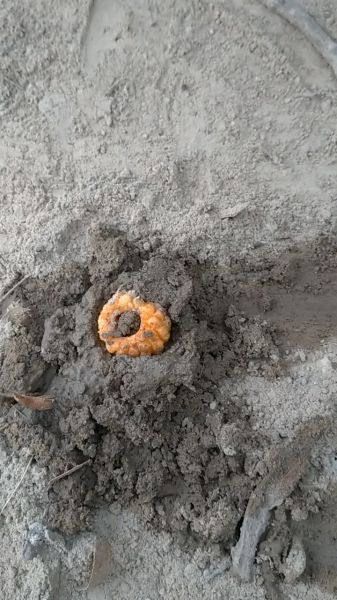eggs: (87, 291, 178, 356)
